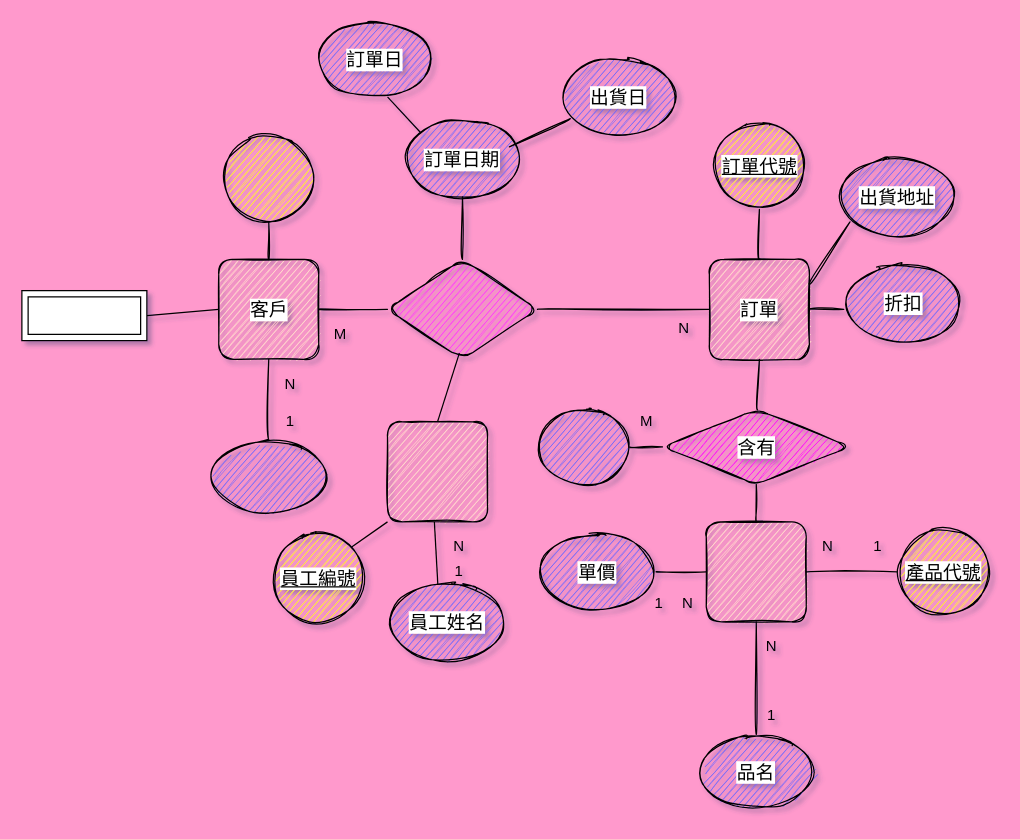
Image size: 1020x839. Some labels were removed from this diagram. The centre of each missing label's shape, as x and y in pixels:
下訂: the point at 462,308
員工: the point at 437,471
客戶代號: the point at 268,177
客戶親屬: the point at 84,315
數量: the point at 583,446
產品: the point at 755,571
發票地址: the point at 268,476
